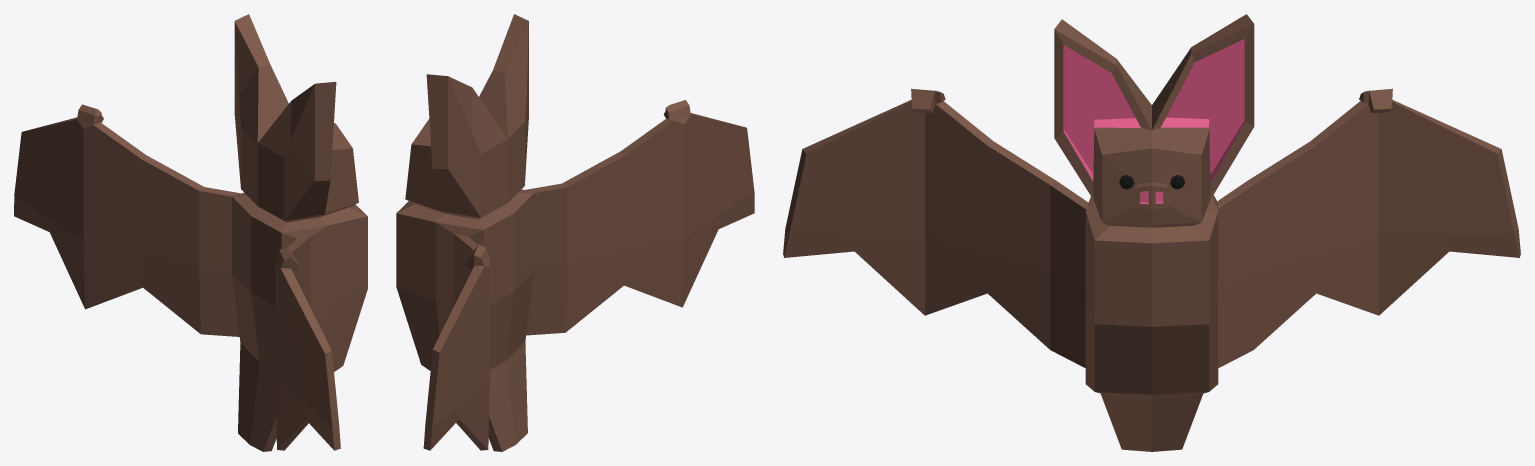
The model's file is Bat.glb.
3 views of the same model, side by side, from view 1: azimuth 30°, elevation 25°; view 2: azimuth 150°, elevation 25°; view 3: azimuth 270°, elevation 25° (orthographic). The views are drawn at different scales.
Visible parts, largest first — view 1: Bat_01_Cube.034; view 2: Bat_01_Cube.034; view 3: Bat_01_Cube.034.
Part boxes in pixels (x1,y1,x2,y2): Bat_01_Cube.034: [14, 14, 367, 451]; Bat_01_Cube.034: [396, 14, 754, 451]; Bat_01_Cube.034: [783, 14, 1520, 451].
Size of the model in its own units: 7.82 by 16.48 by 24.6.
